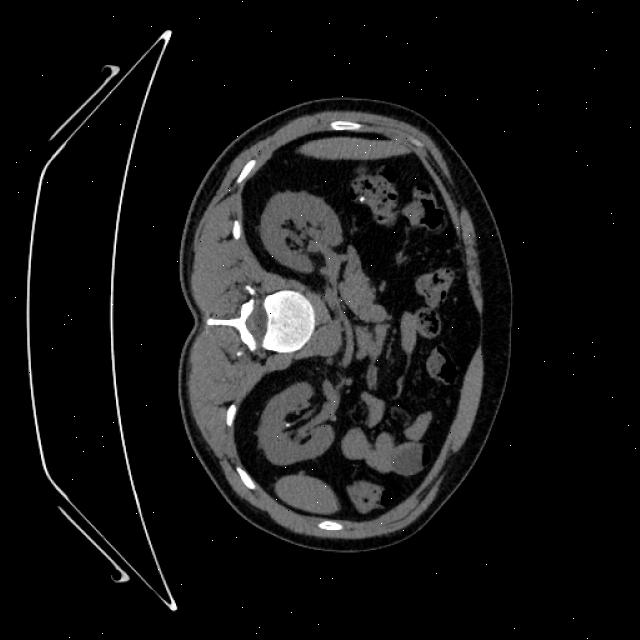kidneystone: (282, 422, 288, 429)
